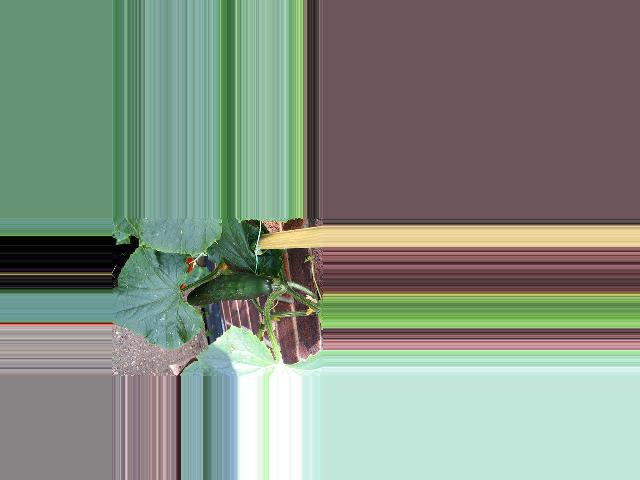cucumber: (187, 273, 273, 307)
